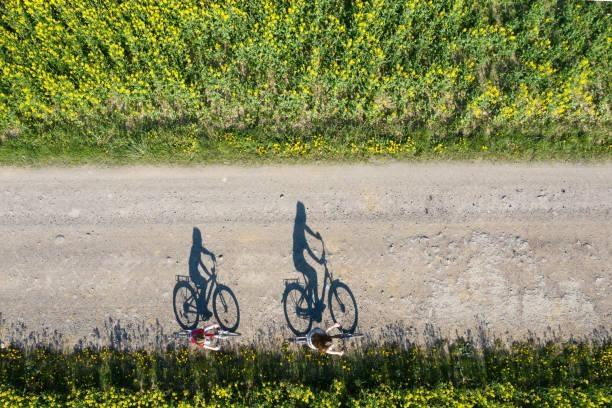Motorcycle: (172, 324, 244, 352), (292, 330, 366, 352)
